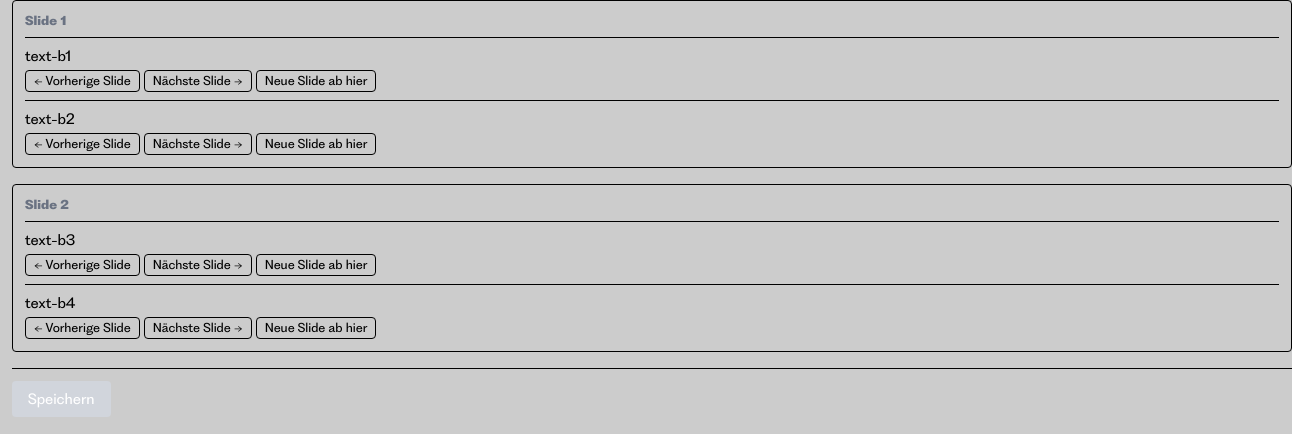
Test case: LayoutEditor › C-5: round-trip revert restores isDirty=false (snapshot-diff regression)
Expected: the text "text-b1" is shown, [25,47,71,65]
Click the button "Nächste Slide →" below "text-b2".
click(198, 144)  # box [144,133,252,155]
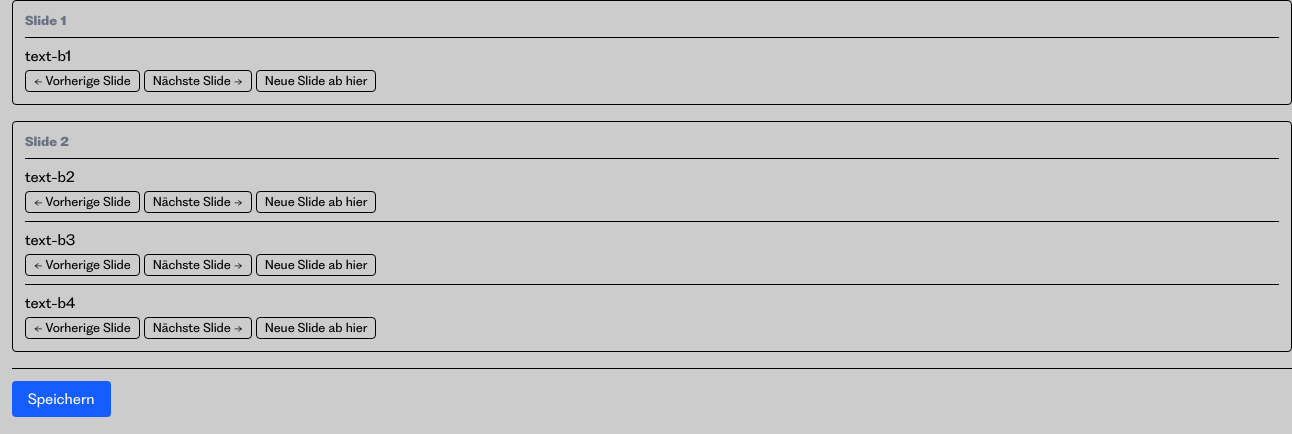
Result: the button "Speichern" is enabled at [12,381,110,417]
Click the button "← Vorherige Slide" below "text-b2".
click(82, 202)  # box [25,191,140,213]
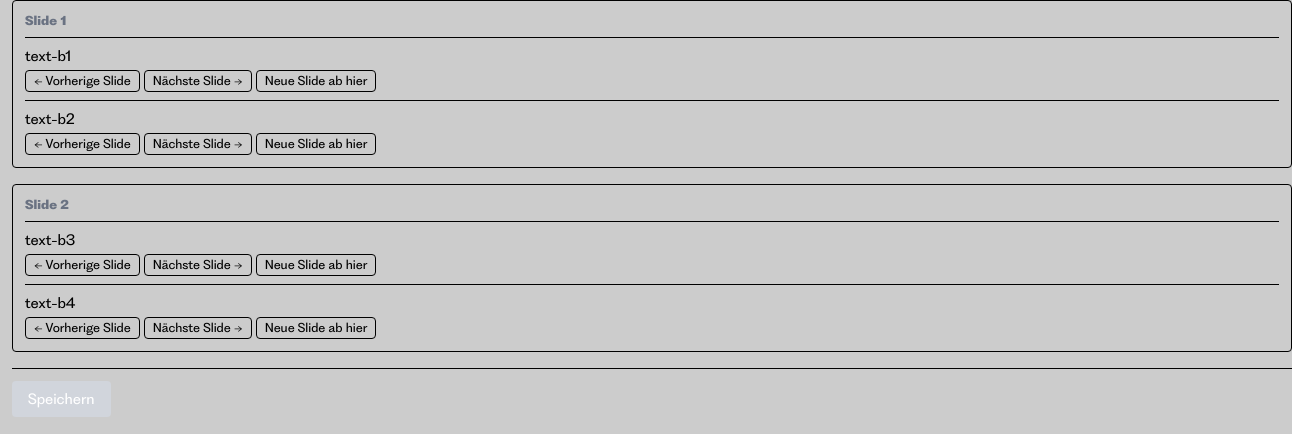
Result: the button "Speichern" is disabled at [12,381,110,417]
